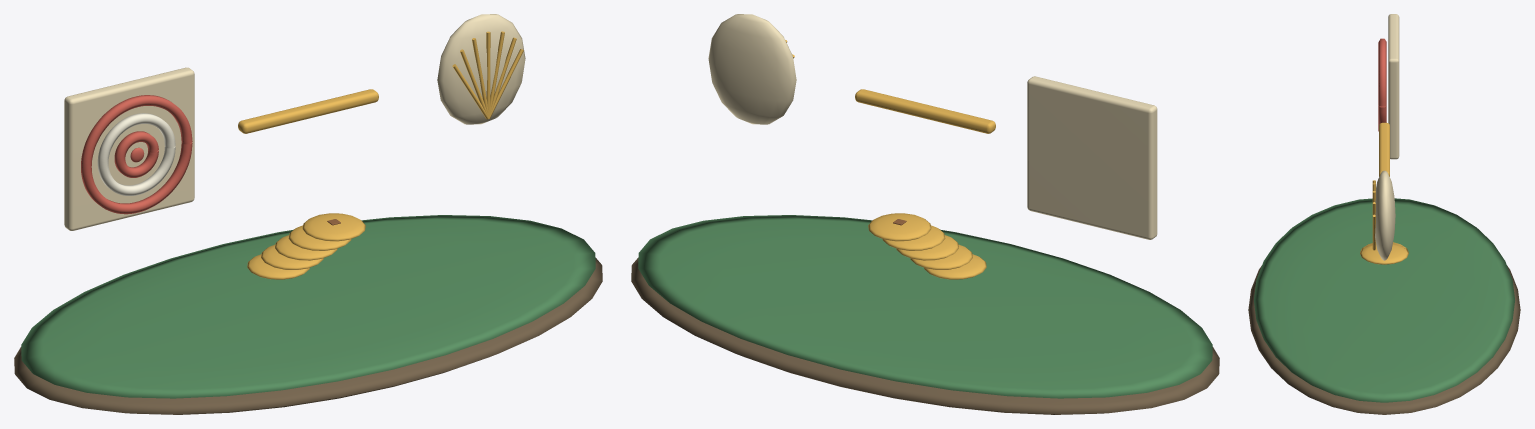
File: complete-first-expensive-shell.glb
The picture shows the model from 3 angles, left to right: view 1: azimuth 30°, elevation 25°; view 2: azimuth 150°, elevation 25°; view 3: azimuth 270°, elevation 25°; orthographic projection. The views are drawn at different scales.
Parts seen in each view (by area): view 1: complete-first-expensive-shell_surface_01, complete-first-expensive-shell_surface_02, complete-first-expensive-shell_surface_00, complete-first-expensive-shell_surface_05, complete-first-expensive-shell_surface_03, complete-first-expensive-shell_surface_04; view 2: complete-first-expensive-shell_surface_01, complete-first-expensive-shell_surface_02, complete-first-expensive-shell_surface_00, complete-first-expensive-shell_surface_05; view 3: complete-first-expensive-shell_surface_01, complete-first-expensive-shell_surface_00, complete-first-expensive-shell_surface_02, complete-first-expensive-shell_surface_05, complete-first-expensive-shell_surface_03.
Part boxes in pixels (x1,y1,x2,y2): complete-first-expensive-shell_surface_01: (21, 215, 595, 398); complete-first-expensive-shell_surface_02: (64, 14, 525, 230); complete-first-expensive-shell_surface_00: (14, 258, 602, 414); complete-first-expensive-shell_surface_05: (238, 31, 523, 279); complete-first-expensive-shell_surface_03: (81, 95, 192, 214); complete-first-expensive-shell_surface_04: (97, 113, 175, 195); complete-first-expensive-shell_surface_01: (638, 215, 1212, 398); complete-first-expensive-shell_surface_02: (708, 14, 1157, 239); complete-first-expensive-shell_surface_00: (631, 258, 1219, 414); complete-first-expensive-shell_surface_05: (785, 40, 995, 279); complete-first-expensive-shell_surface_01: (1254, 198, 1514, 402); complete-first-expensive-shell_surface_00: (1248, 265, 1520, 414); complete-first-expensive-shell_surface_02: (1375, 14, 1399, 260); complete-first-expensive-shell_surface_05: (1360, 122, 1408, 264); complete-first-expensive-shell_surface_03: (1378, 38, 1386, 131).
Size of the model in its own units: 4.56 by 2.25 by 2.5.
